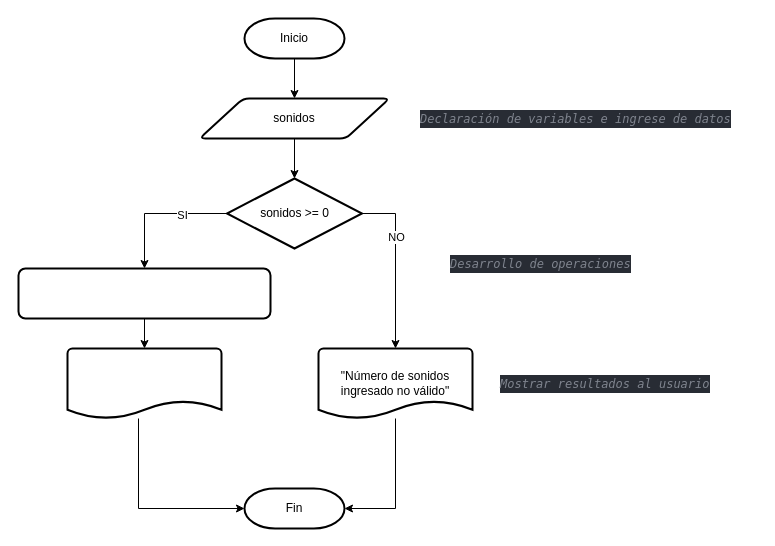
Some shapes in this 775 by 546 pixel diagram are drawn without their labels. The centre of each missing label's shape, as x and y in pixels:
temperatura: the point at 144,383
temperatura = 10 + (numeroSonidos-40)/7: the point at 144,293
